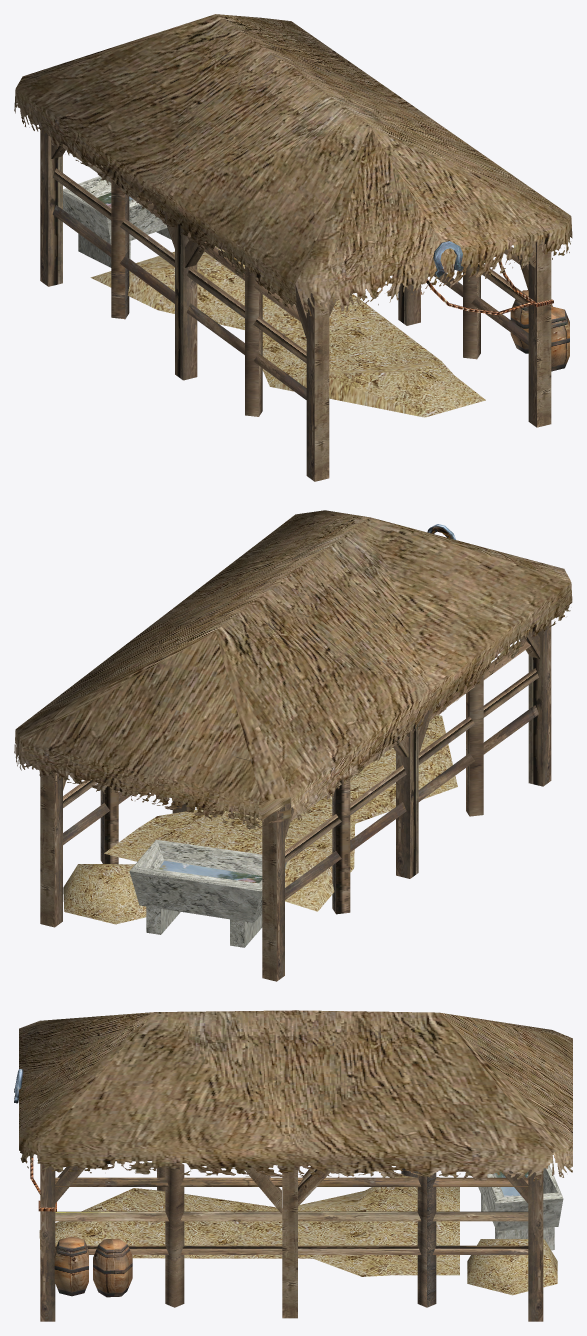
Rendered from building_cart_post.glb.
3 renders of one model, top to bottom at view 1: azimuth 30°, elevation 25°; view 2: azimuth 150°, elevation 25°; view 3: azimuth 270°, elevation 25°, orthographic. The views are drawn at different scales.
Parts seen in each view (by area): view 1: building_cart_post; view 2: building_cart_post; view 3: building_cart_post.
Part boxes in pixels (x1,y1,x2,y2): building_cart_post: (14,14,572,481); building_cart_post: (14,510,572,981); building_cart_post: (14,1010,572,1321).
Size of the model in its own units: 4.71 by 4.31 by 8.46.
8 materials, 8 textured.
